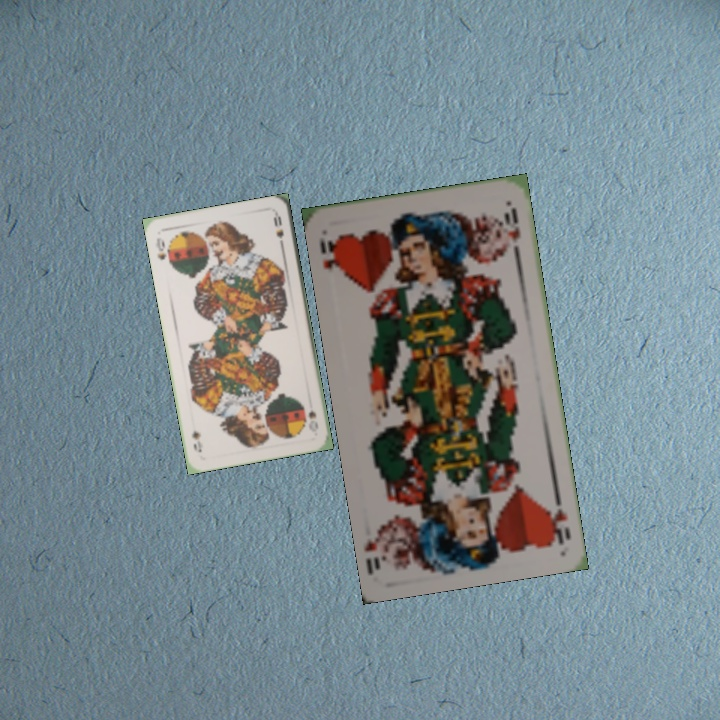HO: (544, 487, 574, 548), (316, 230, 345, 273)
SO: (151, 234, 173, 267), (304, 406, 321, 435)
